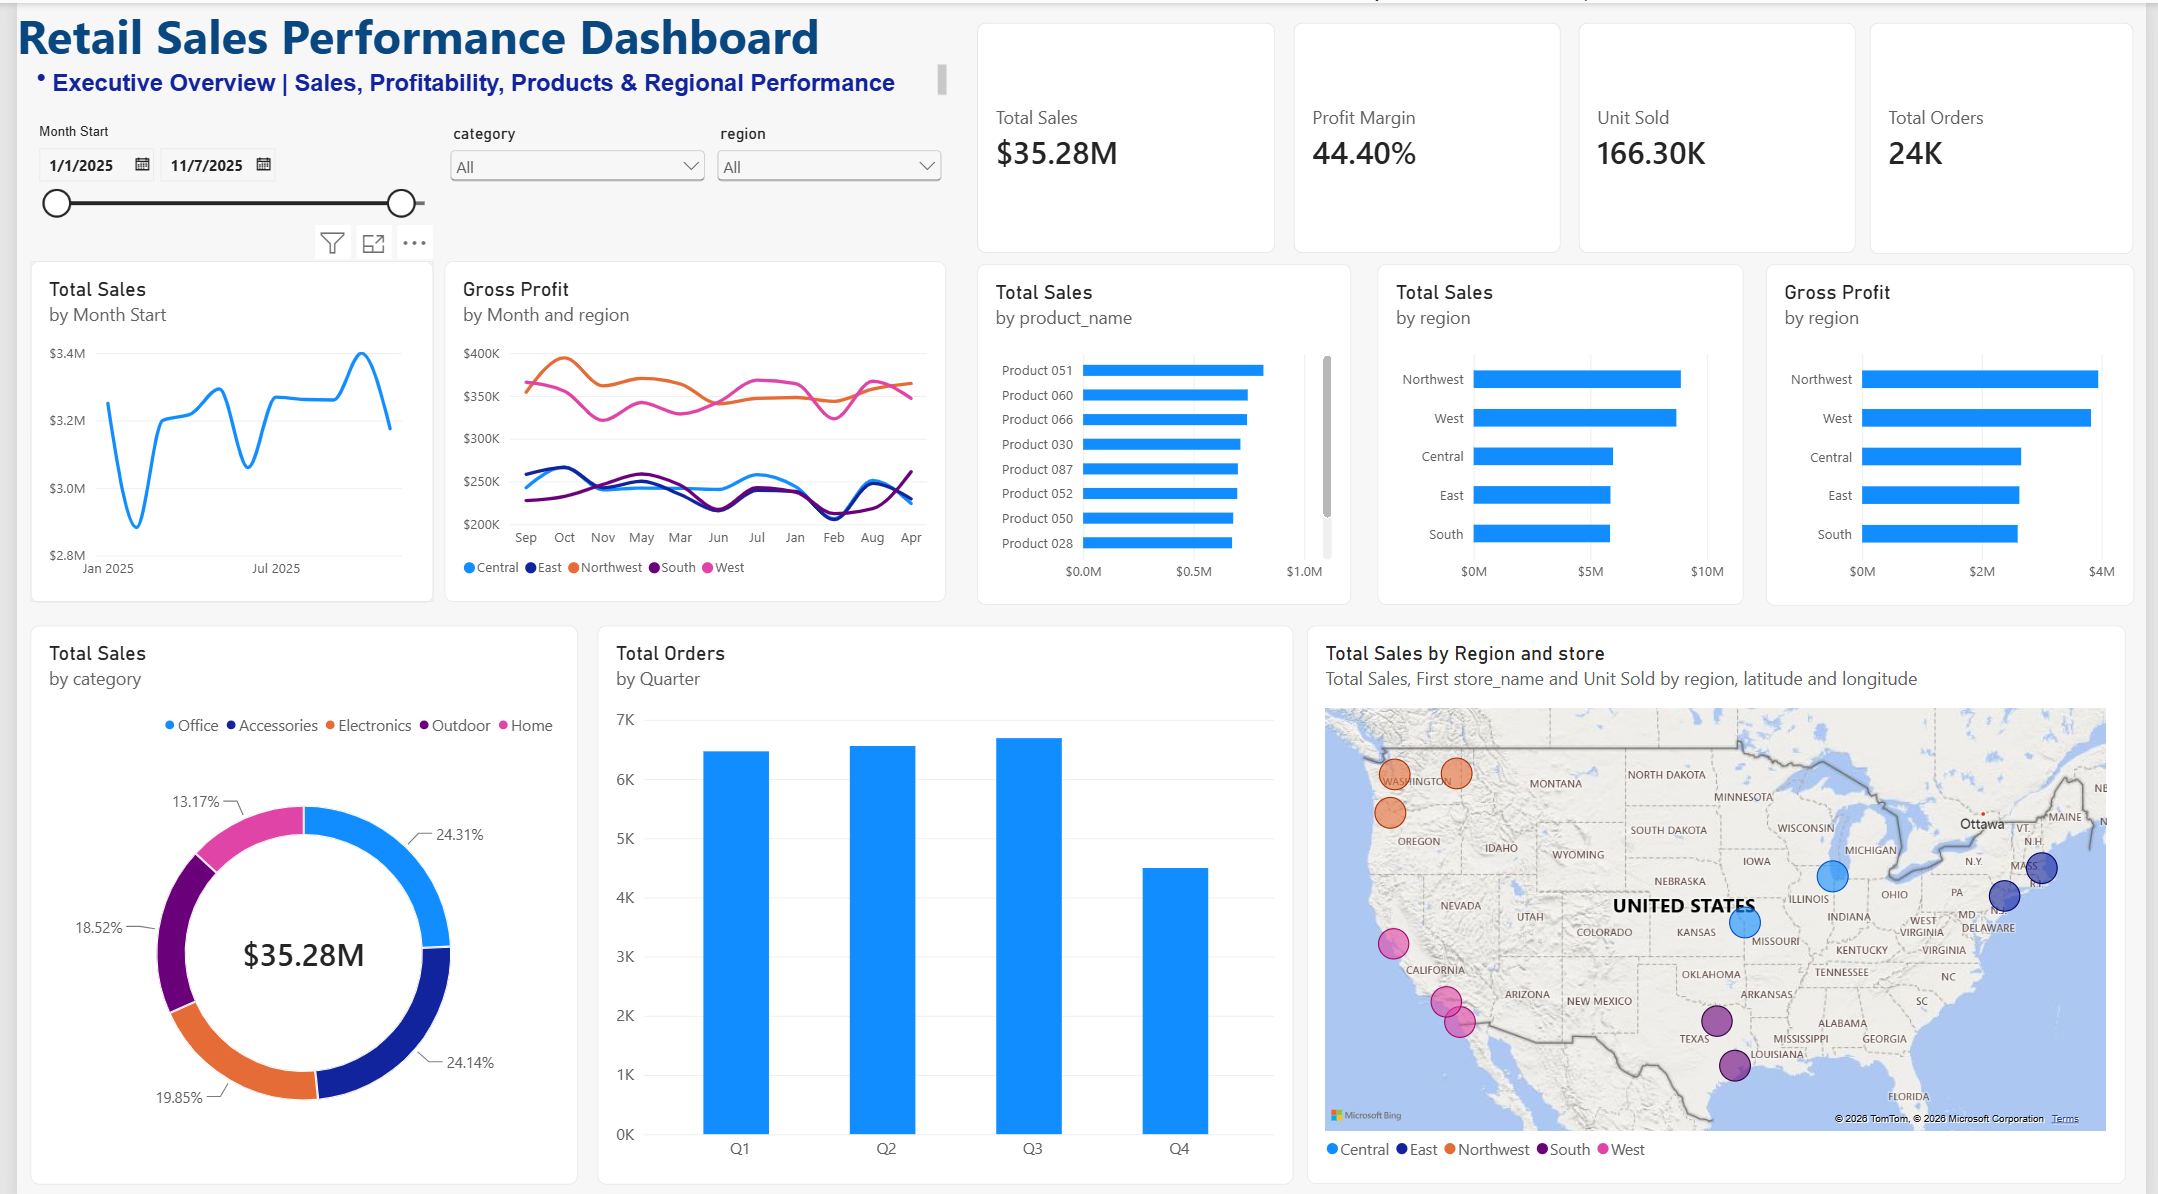

What the dashboard file says about the page in this screenshot:
{"tool":"powerbi","page":{"name":"Executive Sales Overview","canvas":[1920,1080],"ordinal":0},"visuals":[{"type":"slicer","fields":{"Values":["analytics vw_RecognizedSales.category"]},"box":[385.9,109.5,239.9,92.1],"z":0},{"type":"slicer","fields":{"Values":["analytics vw_RecognizedSales.region"]},"box":[625.7,109.5,212,92.1],"z":1000},{"type":"clusteredBarChart","fields":{"Category":["DimProducts.product_name"],"Y":["FactSales.Total Sales"]},"box":[865.6,234.6,337.2,307.6],"z":2000},{"type":"barChart","fields":{"Category":["DimStore.region"],"Y":["FactSales.Total Sales"]},"box":[1227.1,234.6,330.2,307.6],"z":3000},{"type":"cardVisual","fields":{"Data":["FactSales.Total Sales"]},"box":[865.6,17.4,269.4,208.6],"z":5000},{"type":"cardVisual","fields":{"Data":["FactSales.Total Orders"]},"box":[1669.6,17.4,238.8,209.1],"z":6000},{"type":"cardVisual","fields":{"Data":["FactSales.Profit Margin %"]},"box":[1150.6,17.4,241.6,208.6],"z":7000},{"type":"cardVisual","fields":{"Data":["FactSales.Unit Sold"]},"box":[1407.9,17.4,250.3,208.6],"z":8000},{"type":"slicer","fields":{"Values":["DimDate.Month Start"]},"box":[11.9,108.9,374.1,92],"z":9000},{"type":"lineChart","fields":{"Category":["DimDate.Month Start"],"Y":["FactSales.Total Sales"]},"box":[12.1,232.3,363.6,307.8],"z":10000},{"type":"donutChart","fields":{"Category":["DimProducts.category"],"Y":["FactSales.Total Sales"]},"box":[12.1,561.2,493.3,503.9],"z":11000},{"type":"lineChart","fields":{"Category":["DimDate.Month"],"Series":["DimStore.region"],"Y":["FactSales.Gross Profit"]},"box":[385.9,232.9,451.9,307.6],"z":12000},{"type":"clusteredColumnChart","fields":{"Category":["DimDate.Quarter"],"Y":["FactSales.Total Orders"]},"box":[523.5,561.2,627.6,503.9],"z":13000},{"type":"textbox","box":[0,0,751.3,83],"z":13003},{"type":"textbox","box":[0,55.8,837.8,27.8],"z":13004},{"type":"clusteredBarChart","fields":{"Category":["FactSales.region"],"Y":["FactSales.Gross Profit"]},"box":[1577,234.8,331.7,307.9],"z":13006},{"type":"map","title":"Total Sales by Region and store","fields":{"Series":["DimStore.region"],"Size":["FactSales.Total Sales"],"X":["DimStore.longitude"],"Y":["DimStore.latitude"]},"box":[1163.6,561.4,738.3,503.5],"z":13007}]}

Visuals, with their boxes in screenshot pixels (x1, y1, x2, y2), scaled from the page's 1920x1080 canvas onto the 2158x1194 screenshot:
slicer - analytics vw_RecognizedSales.category: Rect(434, 121, 703, 223)
slicer - analytics vw_RecognizedSales.region: Rect(703, 121, 942, 223)
clusteredBarChart - DimProducts.product_name x FactSales.Total Sales: Rect(973, 259, 1352, 599)
barChart - DimStore.region x FactSales.Total Sales: Rect(1379, 259, 1750, 599)
cardVisual - FactSales.Total Sales: Rect(973, 19, 1276, 250)
cardVisual - FactSales.Total Orders: Rect(1877, 19, 2145, 250)
cardVisual - FactSales.Profit Margin %: Rect(1293, 19, 1565, 250)
cardVisual - FactSales.Unit Sold: Rect(1582, 19, 1864, 250)
slicer - DimDate.Month Start: Rect(13, 120, 434, 222)
lineChart - DimDate.Month Start x FactSales.Total Sales: Rect(14, 257, 422, 597)
donutChart - DimProducts.category x FactSales.Total Sales: Rect(14, 620, 568, 1178)
lineChart - DimDate.Month x DimStore.region: Rect(434, 257, 942, 598)
clusteredColumnChart - DimDate.Quarter x FactSales.Total Orders: Rect(588, 620, 1294, 1178)
textbox: Rect(0, 0, 844, 92)
textbox: Rect(0, 62, 942, 92)
clusteredBarChart - FactSales.region x FactSales.Gross Profit: Rect(1772, 260, 2145, 600)
"Total Sales by Region and store" map: Rect(1308, 621, 2138, 1177)
